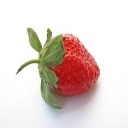strawberry: (32, 25, 101, 101)
